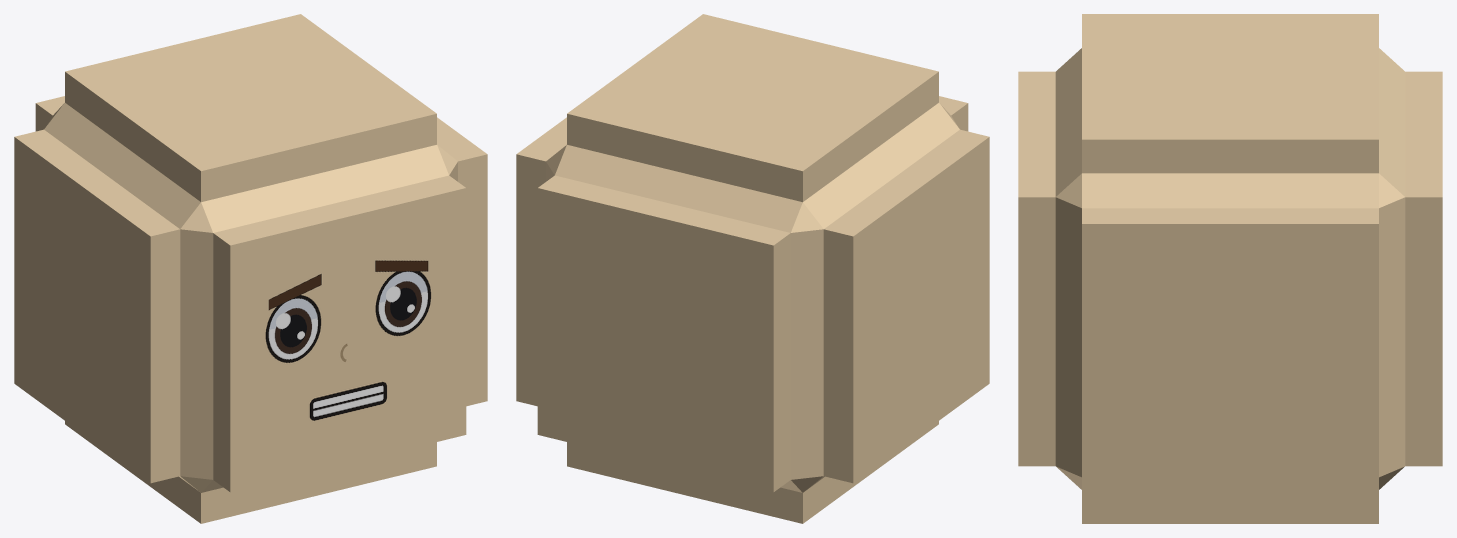
The model's file is Hero_Determined_blenderhead.glb.
3 renders of one model, left to right at view 1: azimuth 30°, elevation 25°; view 2: azimuth 150°, elevation 25°; view 3: azimuth 270°, elevation 25°, orthographic. The views are drawn at different scales.
Visible parts, largest first — view 1: Head; view 2: Head; view 3: Head.
Part boxes in pixels (<box>): Head: <box>14,14,487,523</box>; Head: <box>516,14,989,523</box>; Head: <box>1018,14,1442,523</box>.
Bounding box in the file's own units: 1.2 × 1.2 × 1.2.
1 material, 1 textured.
